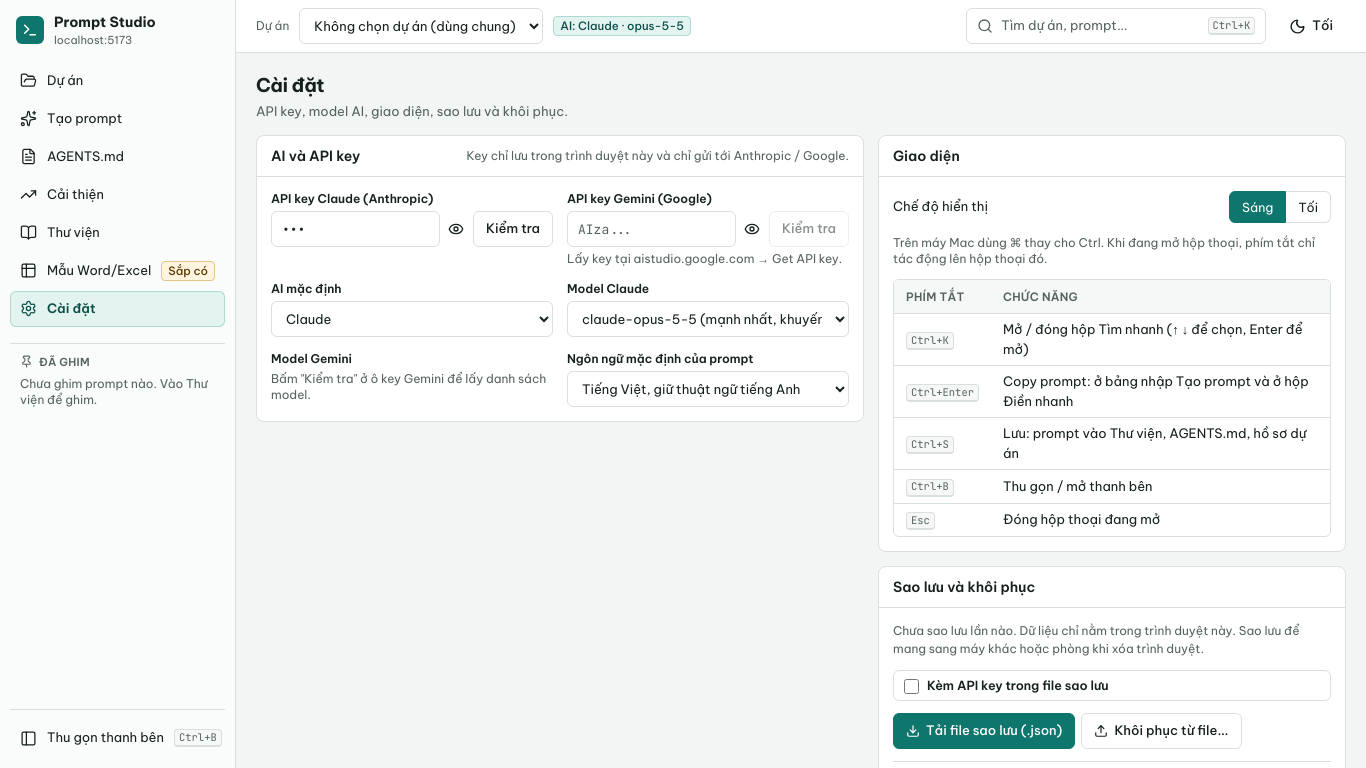
Test: Cài đặt › key sai thì báo lỗi tiếng Việt
Click the button "Kiểm tra" below "API key Claude (Anthropic)": [513, 229] box [473,211,553,247]
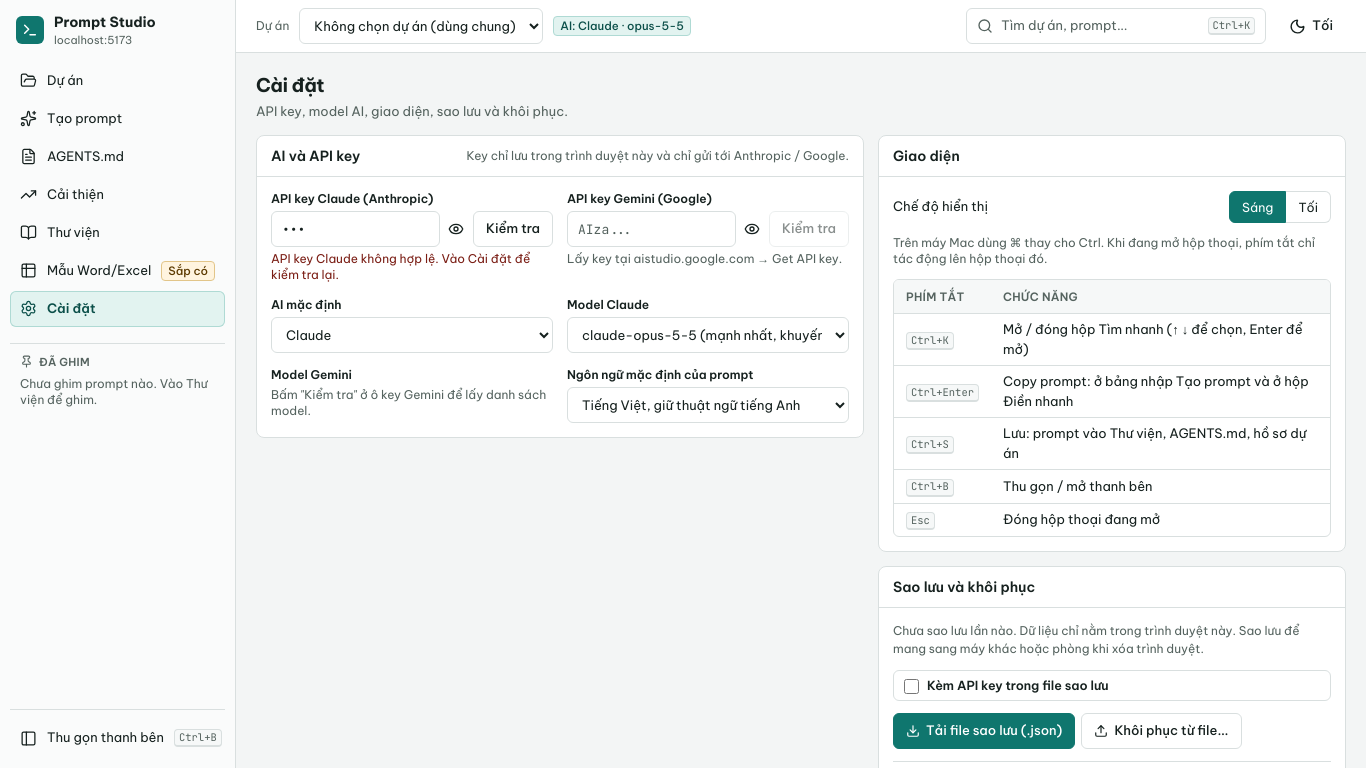
Check: the text "API key Claude không hợp lệ. Vào Cài đặt để kiểm tra lại." is shown, box [271,251,553,283]
